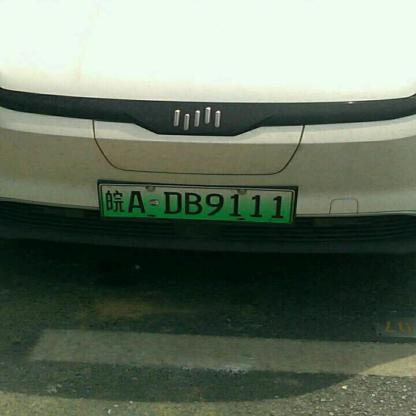lp: (101, 184, 291, 222)
